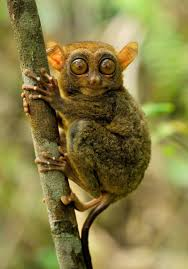tarsier: (20, 39, 149, 207)
